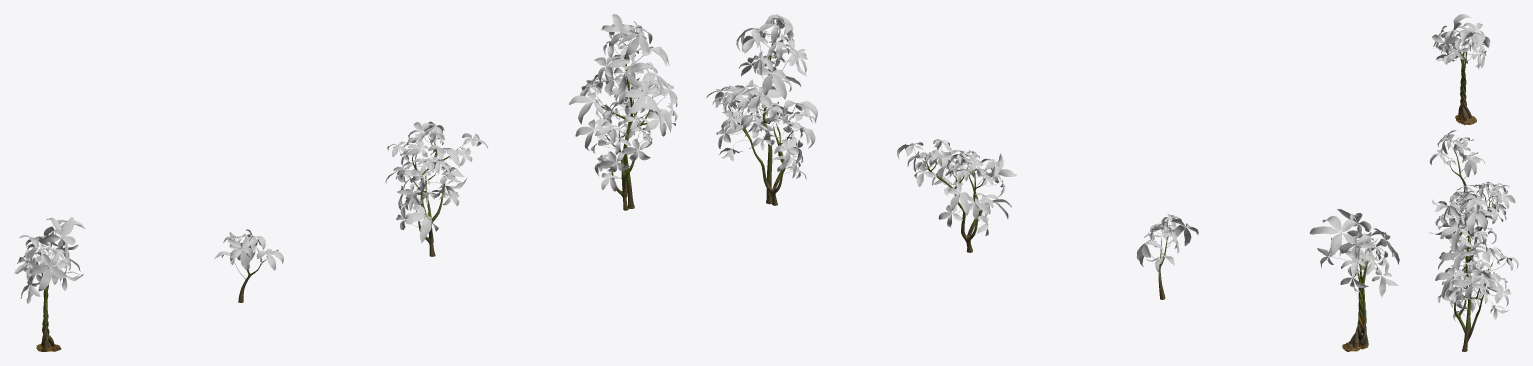
The model's file is pachira_aquatica_01_2k.obj.
3 views of the same model, side by side, from view 1: azimuth 30°, elevation 25°; view 2: azimuth 150°, elevation 25°; view 3: azimuth 270°, elevation 25° (orthographic). The views are drawn at different scales.
Parts seen in each view (by area): view 1: pachira_aquatica_01_leaves_d, pachira_aquatica_01_leaves_c, pachira_aquatica_01_leaves_a, pachira_aquatica_01_leaves_b, pachira_aquatica_01_bark_d, pachira_aquatica_01_bark_c, pachira_aquatica_01_bark_a; view 2: pachira_aquatica_01_leaves_d, pachira_aquatica_01_leaves_c, pachira_aquatica_01_leaves_a, pachira_aquatica_01_leaves_b, pachira_aquatica_01_bark_d, pachira_aquatica_01_bark_a, pachira_aquatica_01_bark_c; view 3: pachira_aquatica_01_leaves_d, pachira_aquatica_01_leaves_c, pachira_aquatica_01_leaves_a, pachira_aquatica_01_leaves_b, pachira_aquatica_01_bark_d, pachira_aquatica_01_bark_a, pachira_aquatica_01_bark_c, pachira_aquatica_01_bark_b.
Boxes of the visible parts, left/top/right/bottom form: pachira_aquatica_01_leaves_d: left=569, top=14, right=677, bottom=191; pachira_aquatica_01_leaves_c: left=385, top=121, right=487, bottom=243; pachira_aquatica_01_leaves_a: left=14, top=217, right=85, bottom=303; pachira_aquatica_01_leaves_b: left=214, top=229, right=283, bottom=279; pachira_aquatica_01_bark_d: left=595, top=44, right=652, bottom=210; pachira_aquatica_01_bark_c: left=409, top=137, right=457, bottom=256; pachira_aquatica_01_bark_a: left=36, top=265, right=61, bottom=351; pachira_aquatica_01_leaves_d: left=706, top=14, right=817, bottom=179; pachira_aquatica_01_leaves_c: left=897, top=139, right=1016, bottom=236; pachira_aquatica_01_leaves_a: left=1309, top=209, right=1399, bottom=297; pachira_aquatica_01_leaves_b: left=1136, top=213, right=1198, bottom=274; pachira_aquatica_01_bark_d: left=728, top=43, right=793, bottom=205; pachira_aquatica_01_bark_a: left=1342, top=259, right=1368, bottom=351; pachira_aquatica_01_bark_c: left=923, top=159, right=989, bottom=252; pachira_aquatica_01_leaves_d: left=1429, top=190, right=1518, bottom=321; pachira_aquatica_01_leaves_c: left=1432, top=181, right=1515, bottom=244; pachira_aquatica_01_leaves_a: left=1431, top=14, right=1490, bottom=69; pachira_aquatica_01_leaves_b: left=1429, top=130, right=1484, bottom=179; pachira_aquatica_01_bark_d: left=1454, top=219, right=1492, bottom=351; pachira_aquatica_01_bark_a: left=1455, top=50, right=1476, bottom=125; pachira_aquatica_01_bark_c: left=1453, top=190, right=1497, bottom=268; pachira_aquatica_01_bark_b: left=1447, top=149, right=1467, bottom=195.
Bounding box in the file's own units: 6.87 × 1.9 × 0.997.
Materials: 2 (1 with a texture image).
